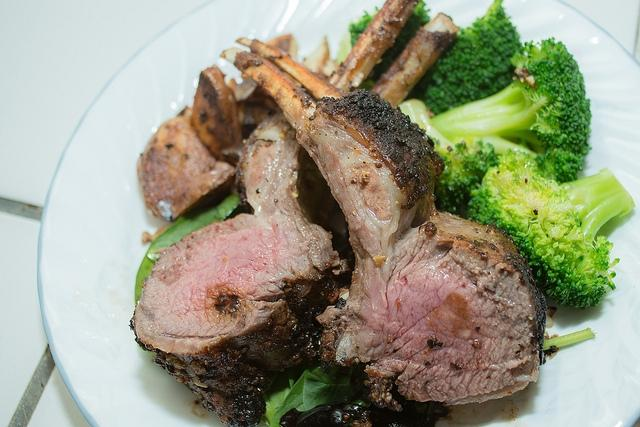broccoli: (468, 149, 636, 308), (431, 37, 592, 157), (397, 99, 500, 220), (422, 9, 528, 119), (349, 6, 430, 90)
